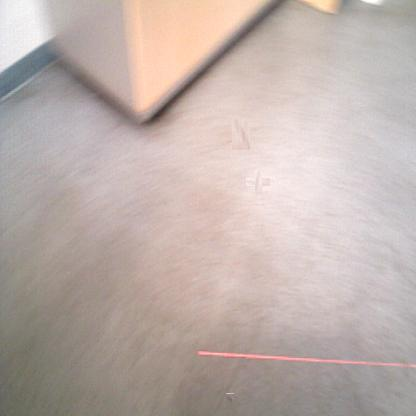mark: (229, 122, 254, 146), (250, 174, 266, 190), (226, 393, 234, 404)
